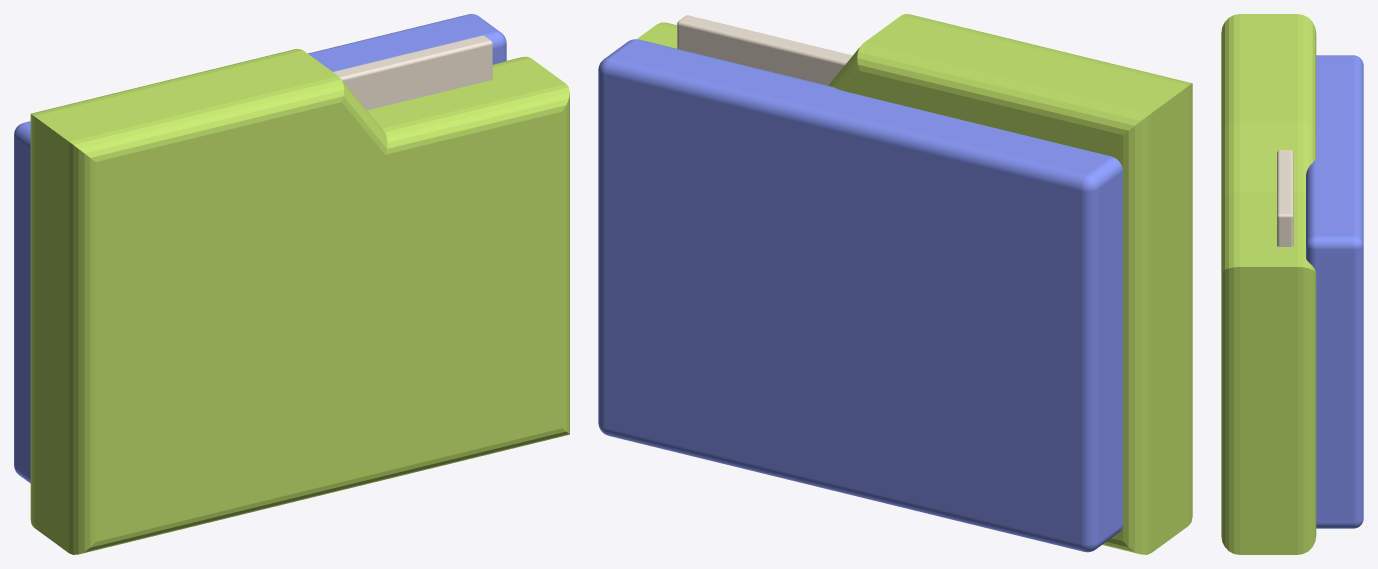
The model's file is folder.glb.
The picture shows the model from 3 angles, left to right: view 1: azimuth 30°, elevation 25°; view 2: azimuth 150°, elevation 25°; view 3: azimuth 270°, elevation 25°; orthographic projection. The views are drawn at different scales.
Size of the model in its own units: 1.35 by 1.07 by 0.405.
